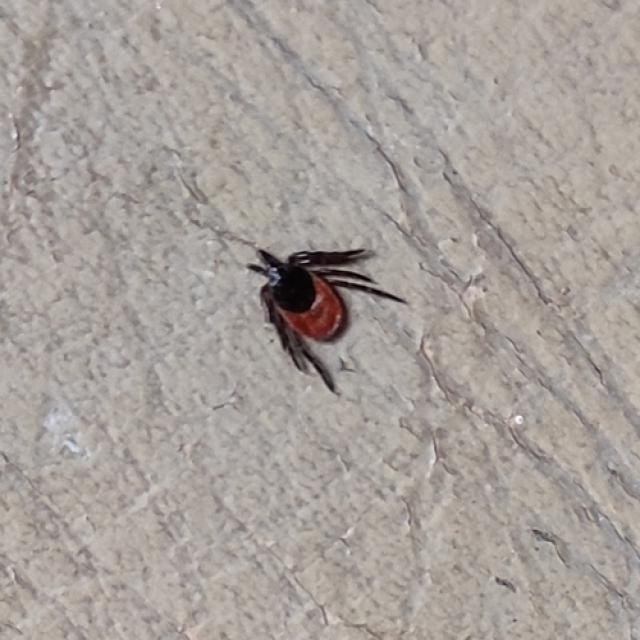Ixodes Ricinus-F: (247, 247, 403, 392)
